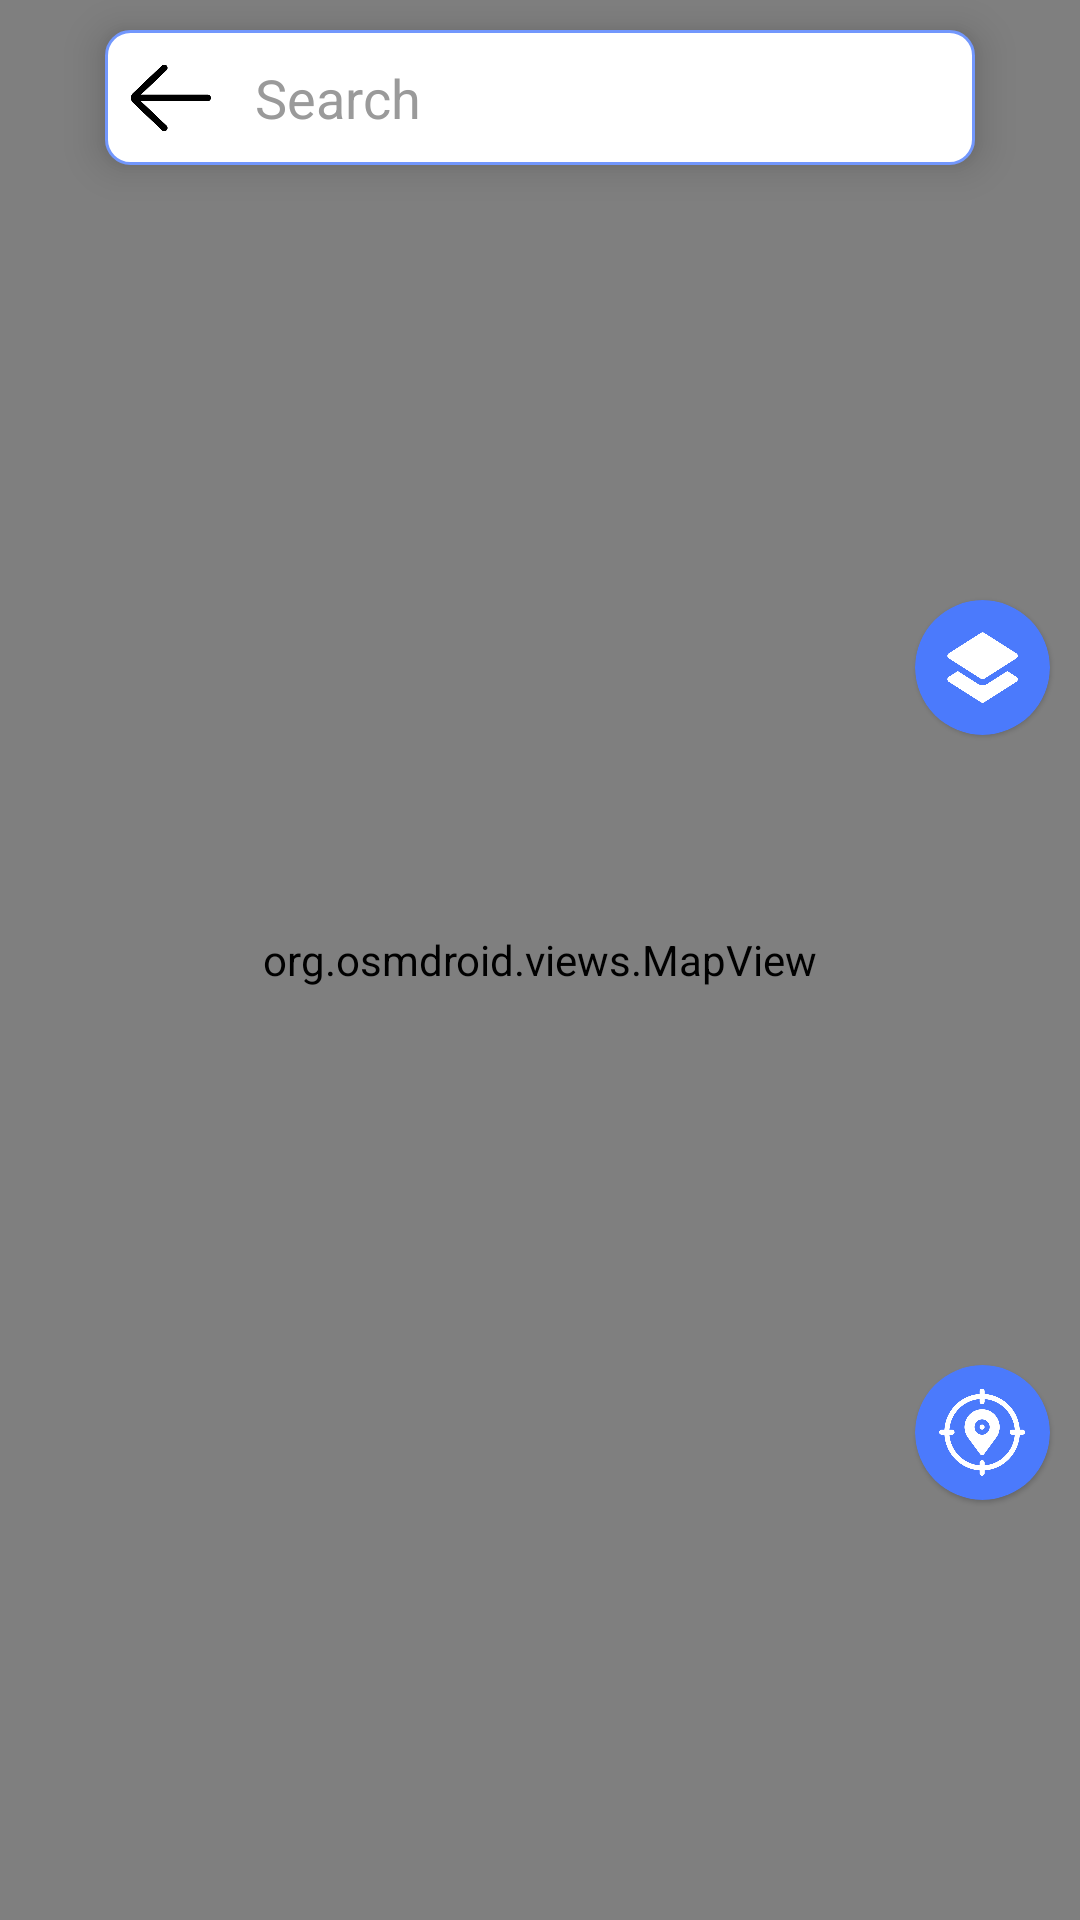

Icons on this 1080 × 1920 Android screen, each with the point to tap as point (x, y):
back arrow: point (171, 98)
current location: point (982, 1432)
map styles: point (982, 667)
